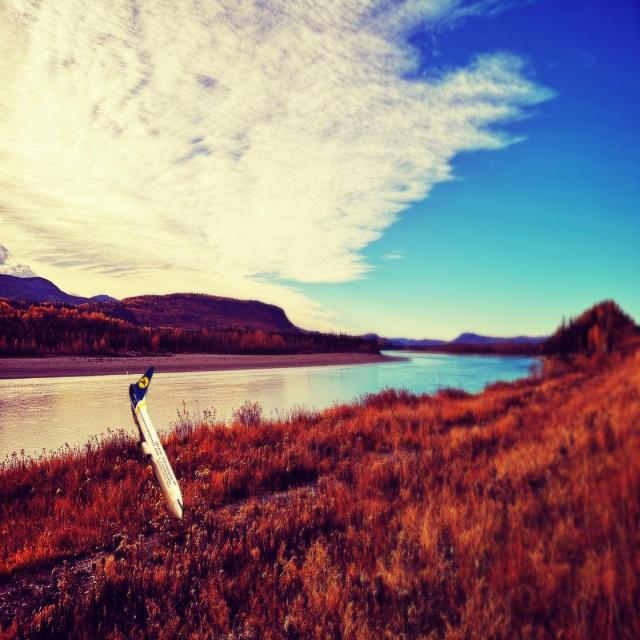airplane: (128, 365, 184, 519)
